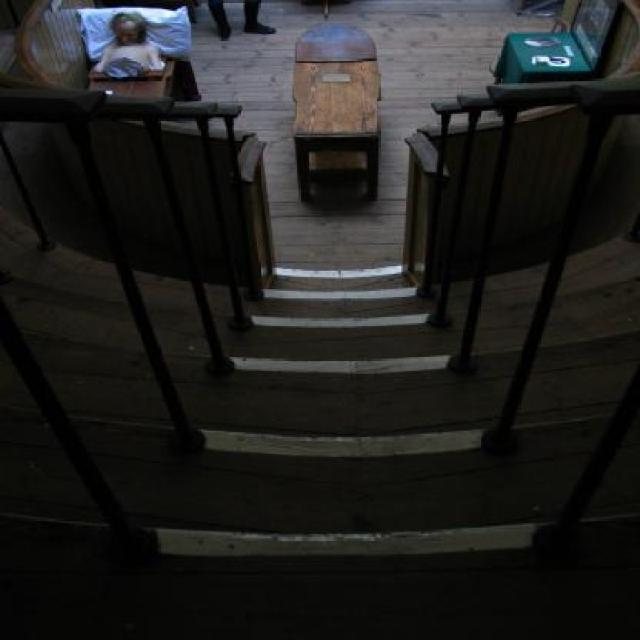stair: (0, 209, 640, 640)
